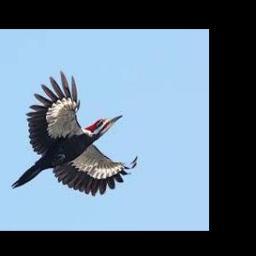Woodpecker: (11, 70, 138, 195)
